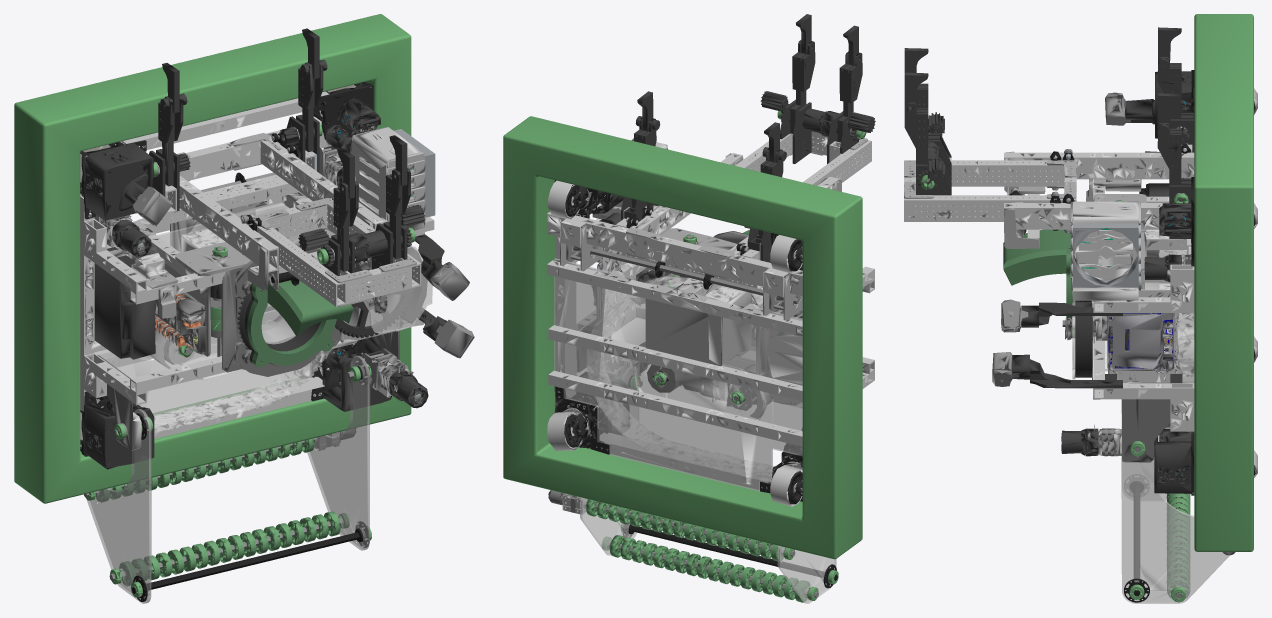
File: robot.glb
The picture shows the model from 3 angles, left to right: view 1: azimuth 30°, elevation 25°; view 2: azimuth 150°, elevation 25°; view 3: azimuth 270°, elevation 25°; orthographic projection. The views are drawn at different scales.
Visible parts, largest first — view 1: FrameControl, BumperPlane, IndexWristRControl, ClimberControlInner, ClimberControlOuter, TurretRControl, TurretGearRControl; view 2: BumperPlane, FrameControl, IndexWristRControl, ClimberControlInner, ClimberControlOuter; view 3: FrameControl, BumperPlane, ClimberControlInner, IndexWristRControl, ClimberControlOuter, TurretRControl.
Part boxes in pixels (bbox=[...]): FrameControl: bbox=[80, 82, 474, 469]; BumperPlane: bbox=[14, 14, 411, 503]; IndexWristRControl: bbox=[84, 355, 371, 603]; ClimberControlInner: bbox=[240, 135, 425, 306]; ClimberControlOuter: bbox=[149, 28, 327, 226]; TurretRControl: bbox=[237, 280, 353, 367]; TurretGearRControl: bbox=[335, 263, 413, 337]; BumperPlane: bbox=[503, 116, 862, 559]; FrameControl: bbox=[547, 138, 874, 506]; IndexWristRControl: bbox=[548, 366, 838, 603]; ClimberControlInner: bbox=[735, 14, 875, 185]; ClimberControlOuter: bbox=[616, 91, 786, 288]; FrameControl: bbox=[992, 70, 1257, 495]; BumperPlane: bbox=[1194, 14, 1253, 551]; ClimberControlInner: bbox=[904, 48, 1076, 233]; IndexWristRControl: bbox=[1121, 382, 1235, 603]; ClimberControlOuter: bbox=[1157, 27, 1194, 254]; TurretRControl: bbox=[1003, 229, 1091, 338].
Bounding box in the file's own units: 0.8763 × 1.16 × 0.7558.
